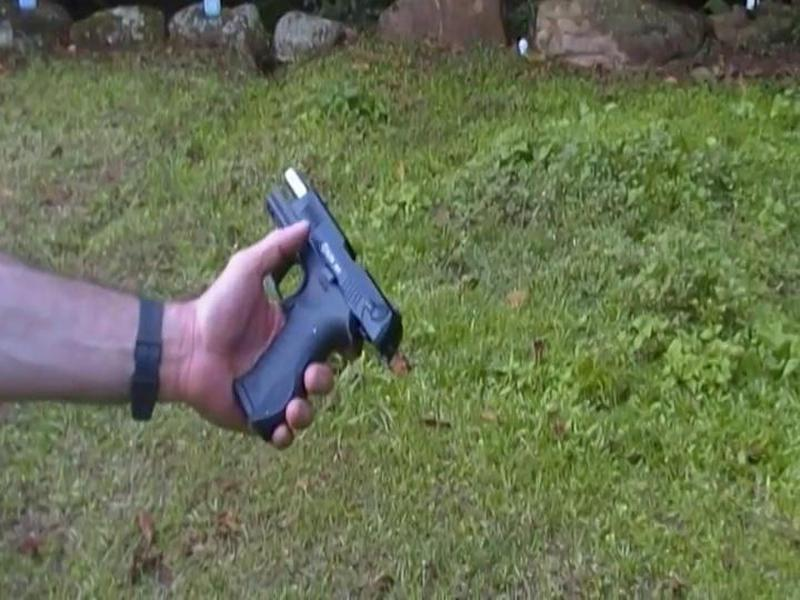Pistola: (235, 159, 410, 452)
